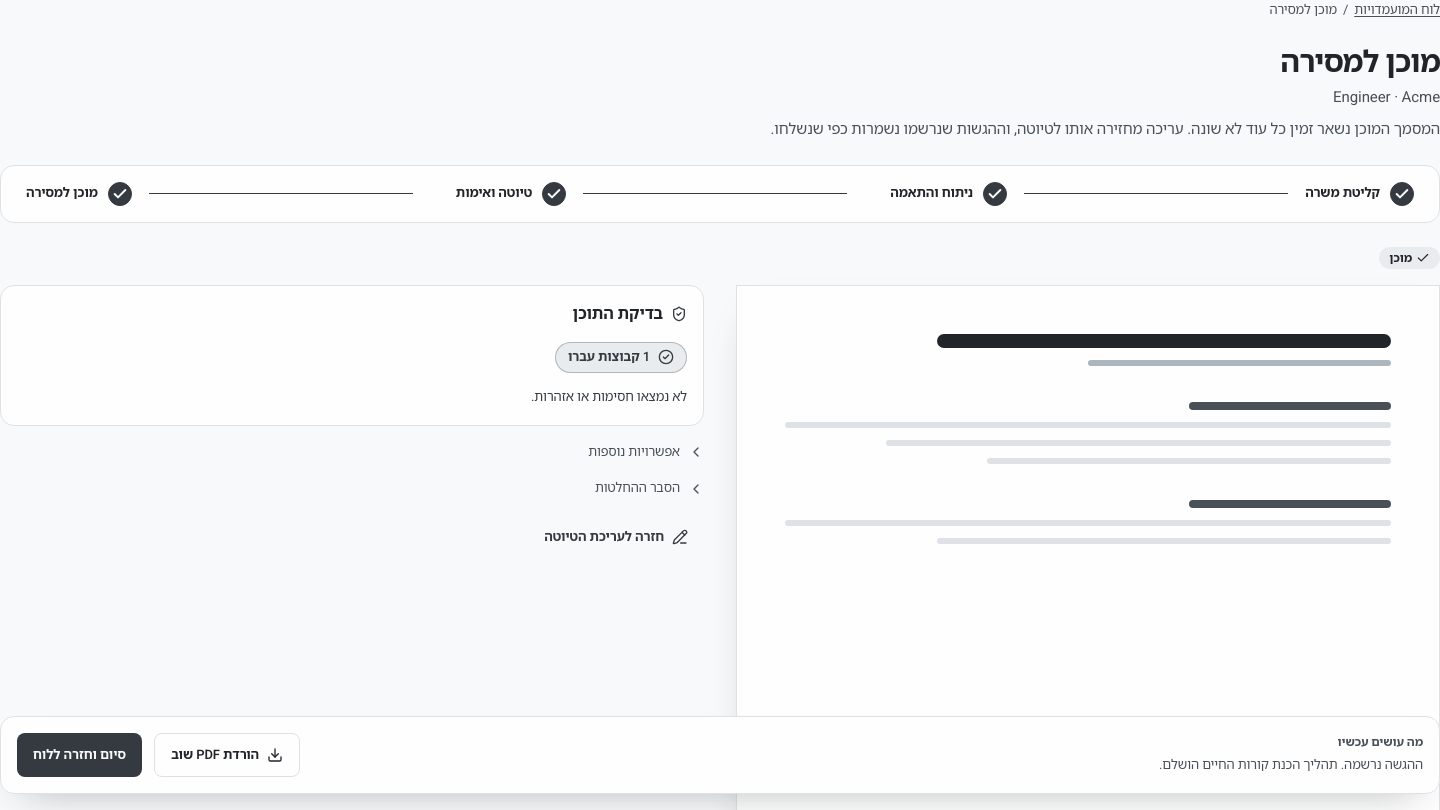
Scenario: ReadyPage › names a document already on record as submitted and asks before recording a second one
Click the heading "אפשרויות נוספות" at (646, 451), box top-left (588, 442), bottom-right (704, 461)
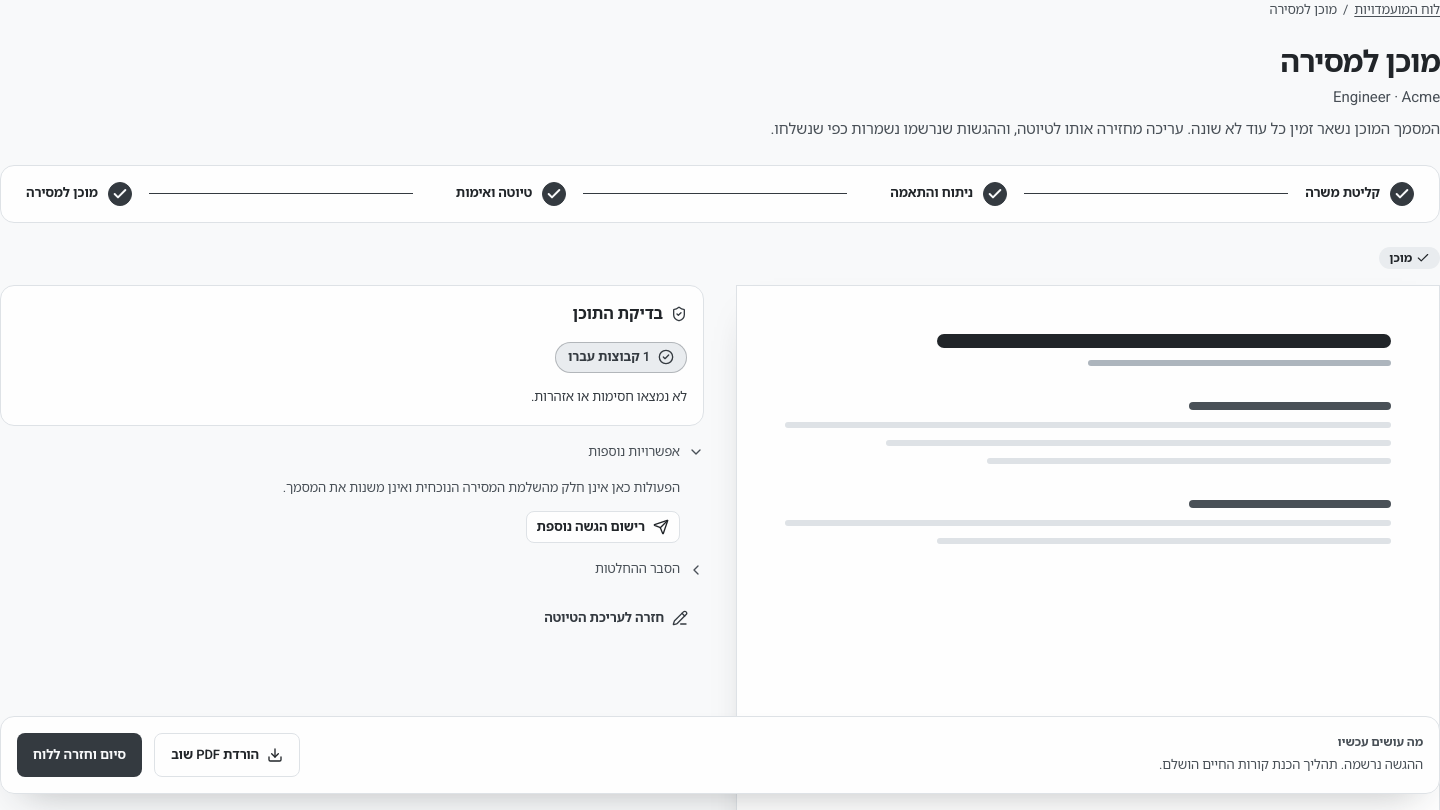
Click the button "רישום הגשה נוספת" at (603, 527), box top-left (526, 511), bottom-right (680, 543)
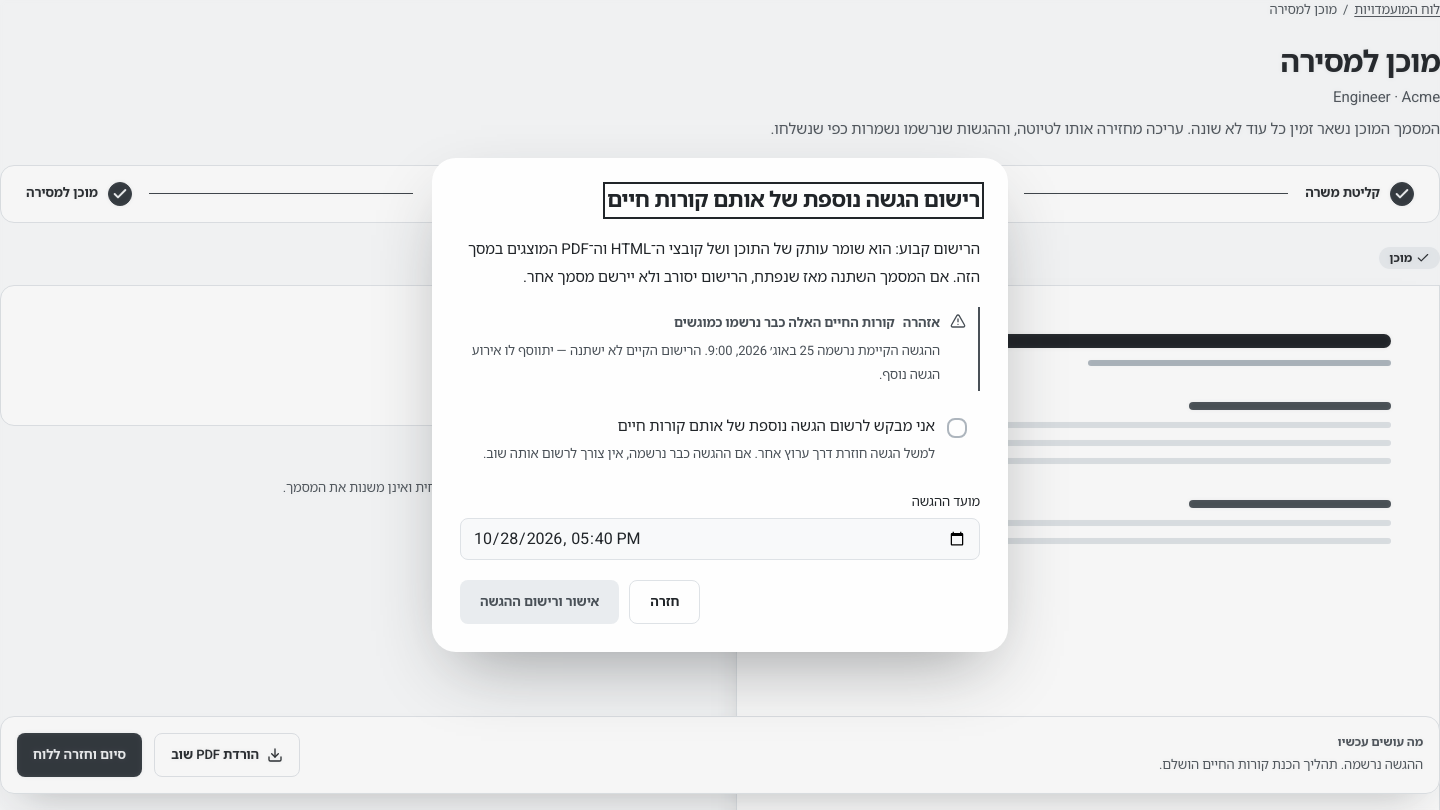
Expected: the text "קורות החיים האלה כבר נרשמו כמוגשים" is shown, top-left (674, 311), bottom-right (895, 335)
Expected: the button "אישור ורישום ההגשה" is disabled, top-left (460, 580), bottom-right (619, 624)
Click the checkbox labelled "אני מבקש לרשום הגשה נוספת של אותם קורות חיים" at (720, 439), box top-left (460, 403), bottom-right (980, 476)
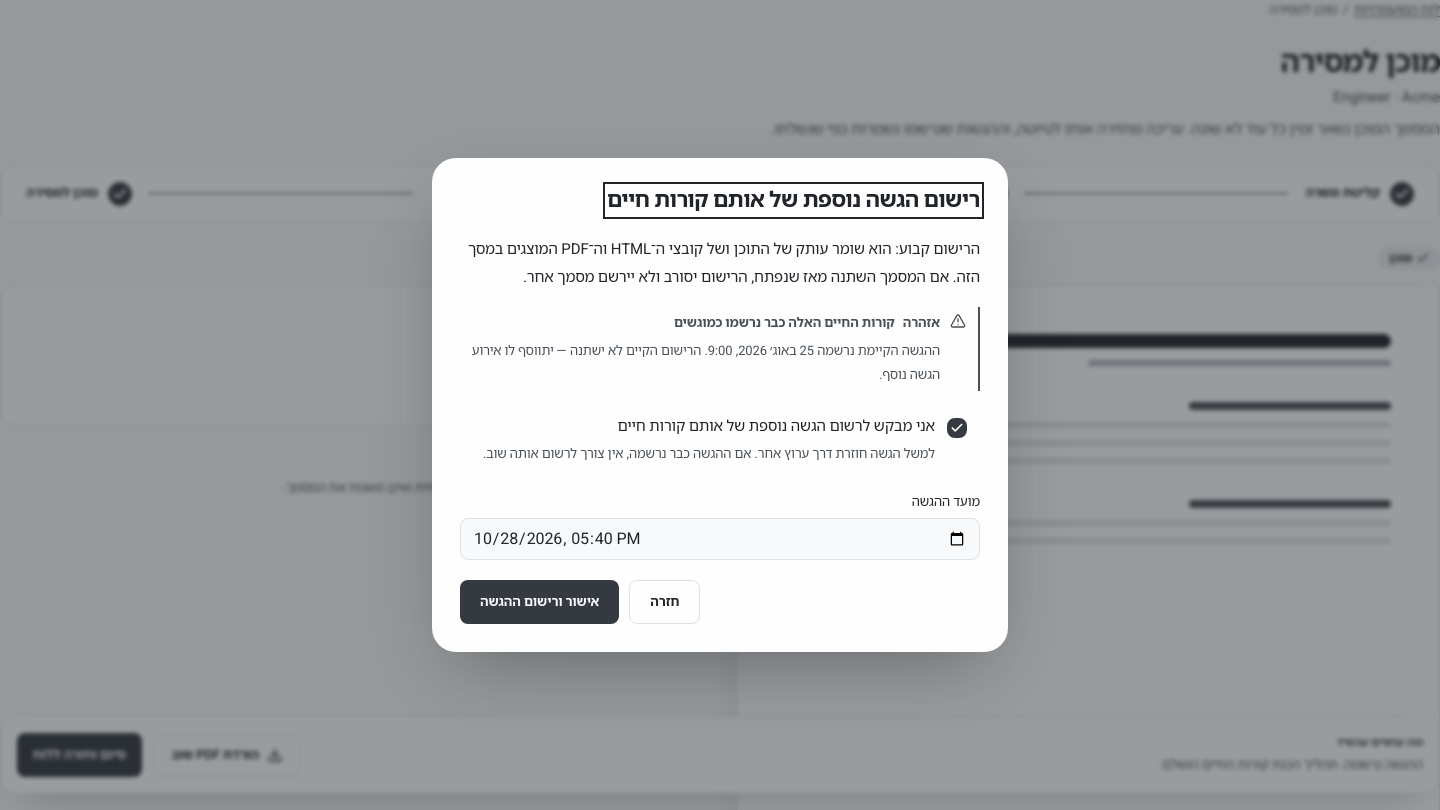
Expected: the button "אישור ורישום ההגשה" is enabled, top-left (460, 580), bottom-right (619, 624)
